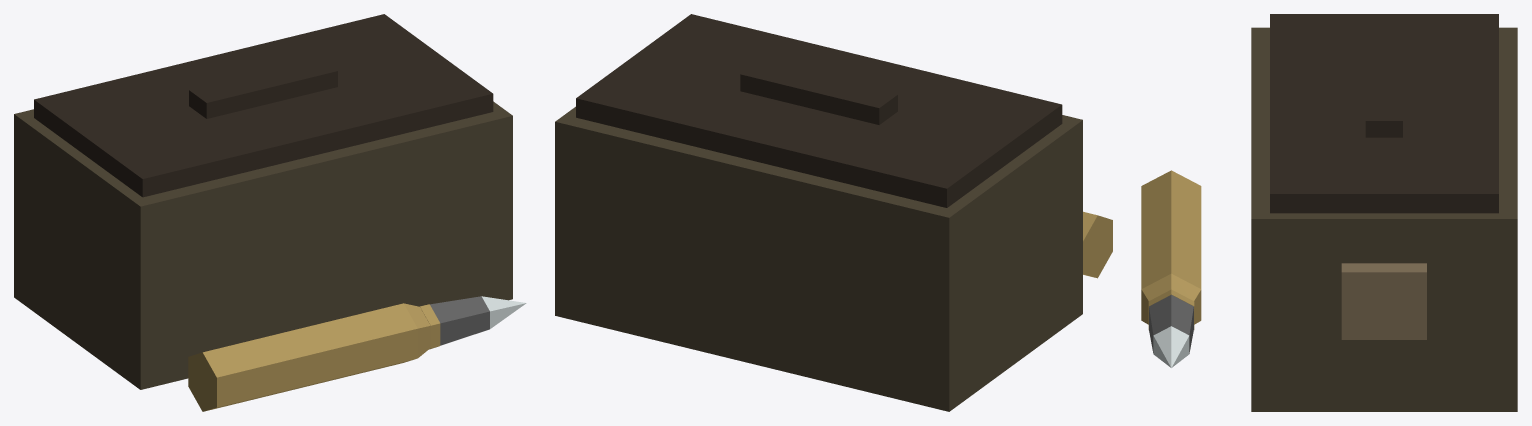
The model's file is ce_ammo_light_sabot_c.obj.
3 renders of one model, left to right at view 1: azimuth 30°, elevation 25°; view 2: azimuth 150°, elevation 25°; view 3: azimuth 270°, elevation 25°, orthographic. The views are drawn at different scales.
Parts seen in each view (by area): view 1: ce_ammo_light_sabot_c_0, ce_ammo_light_sabot_c_1, ce_ammo_light_sabot_c_4, ce_ammo_light_sabot_c_2, ce_ammo_light_sabot_c_7, ce_ammo_light_sabot_c_8, ce_ammo_light_sabot_c_5, ce_ammo_light_sabot_c_6; view 2: ce_ammo_light_sabot_c_0, ce_ammo_light_sabot_c_1, ce_ammo_light_sabot_c_2, ce_ammo_light_sabot_c_4; view 3: ce_ammo_light_sabot_c_0, ce_ammo_light_sabot_c_1, ce_ammo_light_sabot_c_3, ce_ammo_light_sabot_c_4, ce_ammo_light_sabot_c_2, ce_ammo_light_sabot_c_7, ce_ammo_light_sabot_c_5, ce_ammo_light_sabot_c_8.
Boxes of the visible parts, x1,y1,x2,y2 form: ce_ammo_light_sabot_c_0: (14, 101, 512, 389); ce_ammo_light_sabot_c_1: (34, 14, 493, 197); ce_ammo_light_sabot_c_4: (188, 303, 417, 411); ce_ammo_light_sabot_c_2: (189, 58, 337, 118); ce_ammo_light_sabot_c_7: (430, 296, 489, 345); ce_ammo_light_sabot_c_8: (481, 296, 526, 328); ce_ammo_light_sabot_c_5: (404, 303, 430, 357); ce_ammo_light_sabot_c_6: (420, 304, 440, 349); ce_ammo_light_sabot_c_0: (555, 106, 1082, 411); ce_ammo_light_sabot_c_1: (576, 14, 1062, 207); ce_ammo_light_sabot_c_2: (740, 60, 897, 124); ce_ammo_light_sabot_c_4: (1083, 211, 1112, 278); ce_ammo_light_sabot_c_0: (1251, 27, 1517, 411); ce_ammo_light_sabot_c_1: (1270, 14, 1498, 213); ce_ammo_light_sabot_c_3: (1341, 263, 1426, 339); ce_ammo_light_sabot_c_4: (1141, 170, 1201, 288); ce_ammo_light_sabot_c_2: (1365, 53, 1402, 137); ce_ammo_light_sabot_c_7: (1149, 295, 1193, 353); ce_ammo_light_sabot_c_5: (1141, 273, 1201, 324); ce_ammo_light_sabot_c_8: (1153, 326, 1189, 367).
Bounding box in the file's own units: 0.89 × 0.475 × 0.7063.
